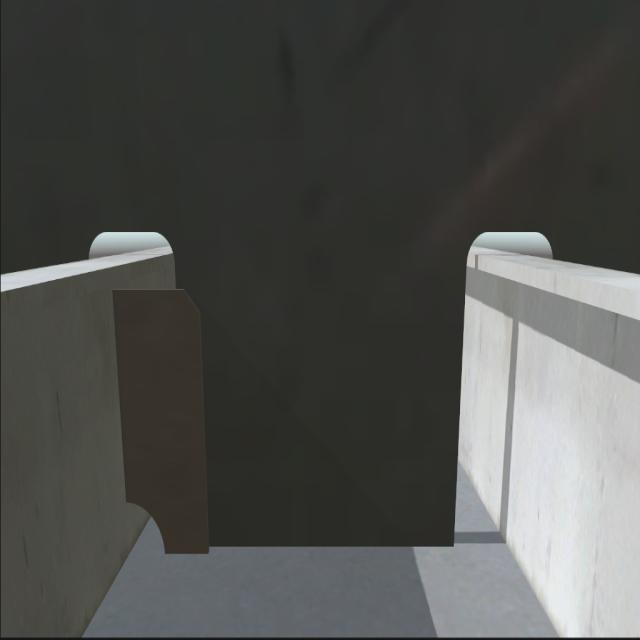fillet_hole: (125, 498, 166, 554)
fillet_yong_jeop_jang: (156, 537, 460, 553)
longi_yong_jeop_jang: (107, 281, 135, 508)
plate_CP03: (113, 282, 213, 553)
